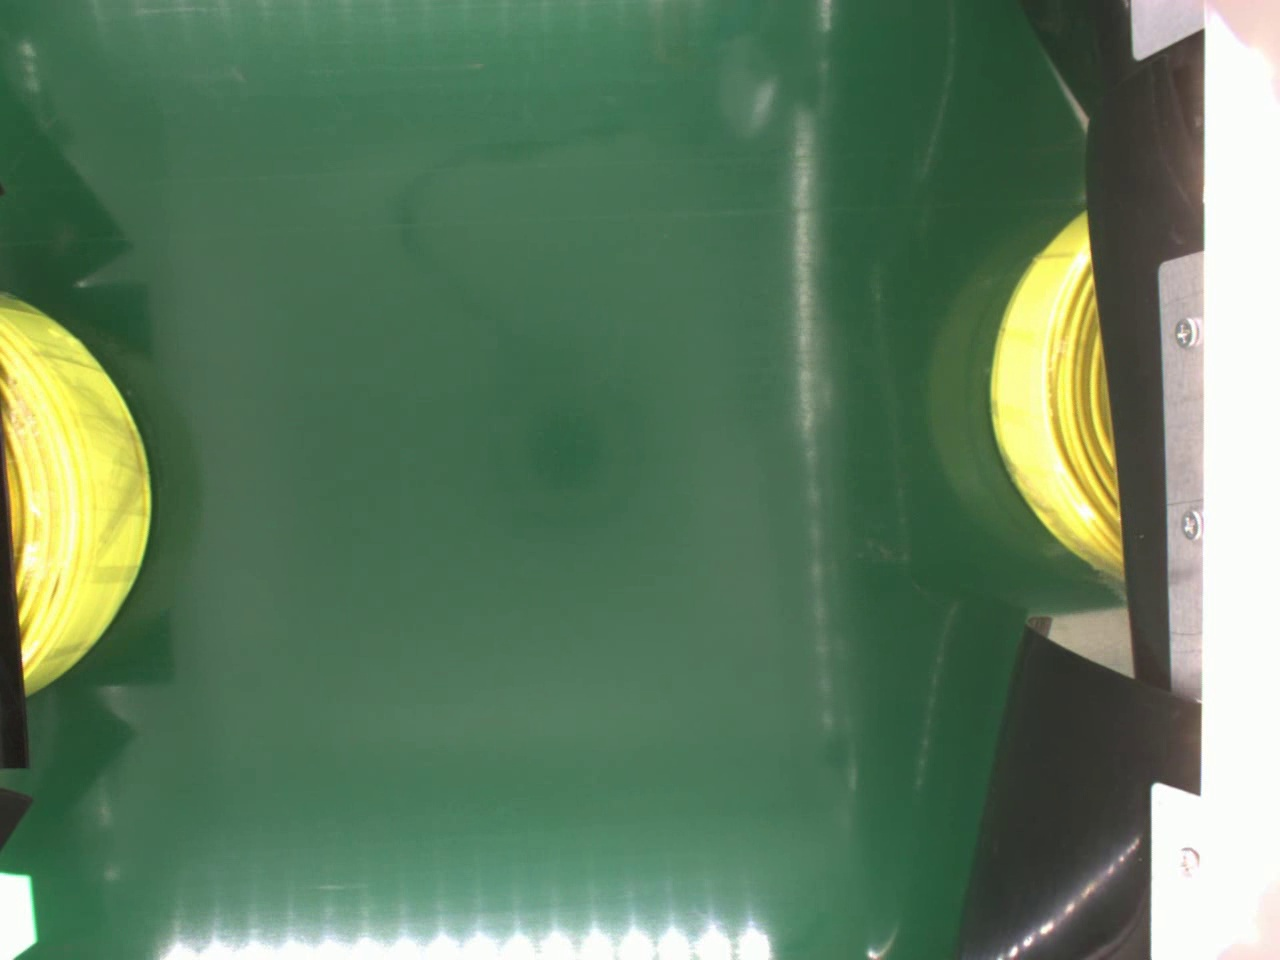yellow: (0, 291, 151, 692), (987, 207, 1126, 566)
